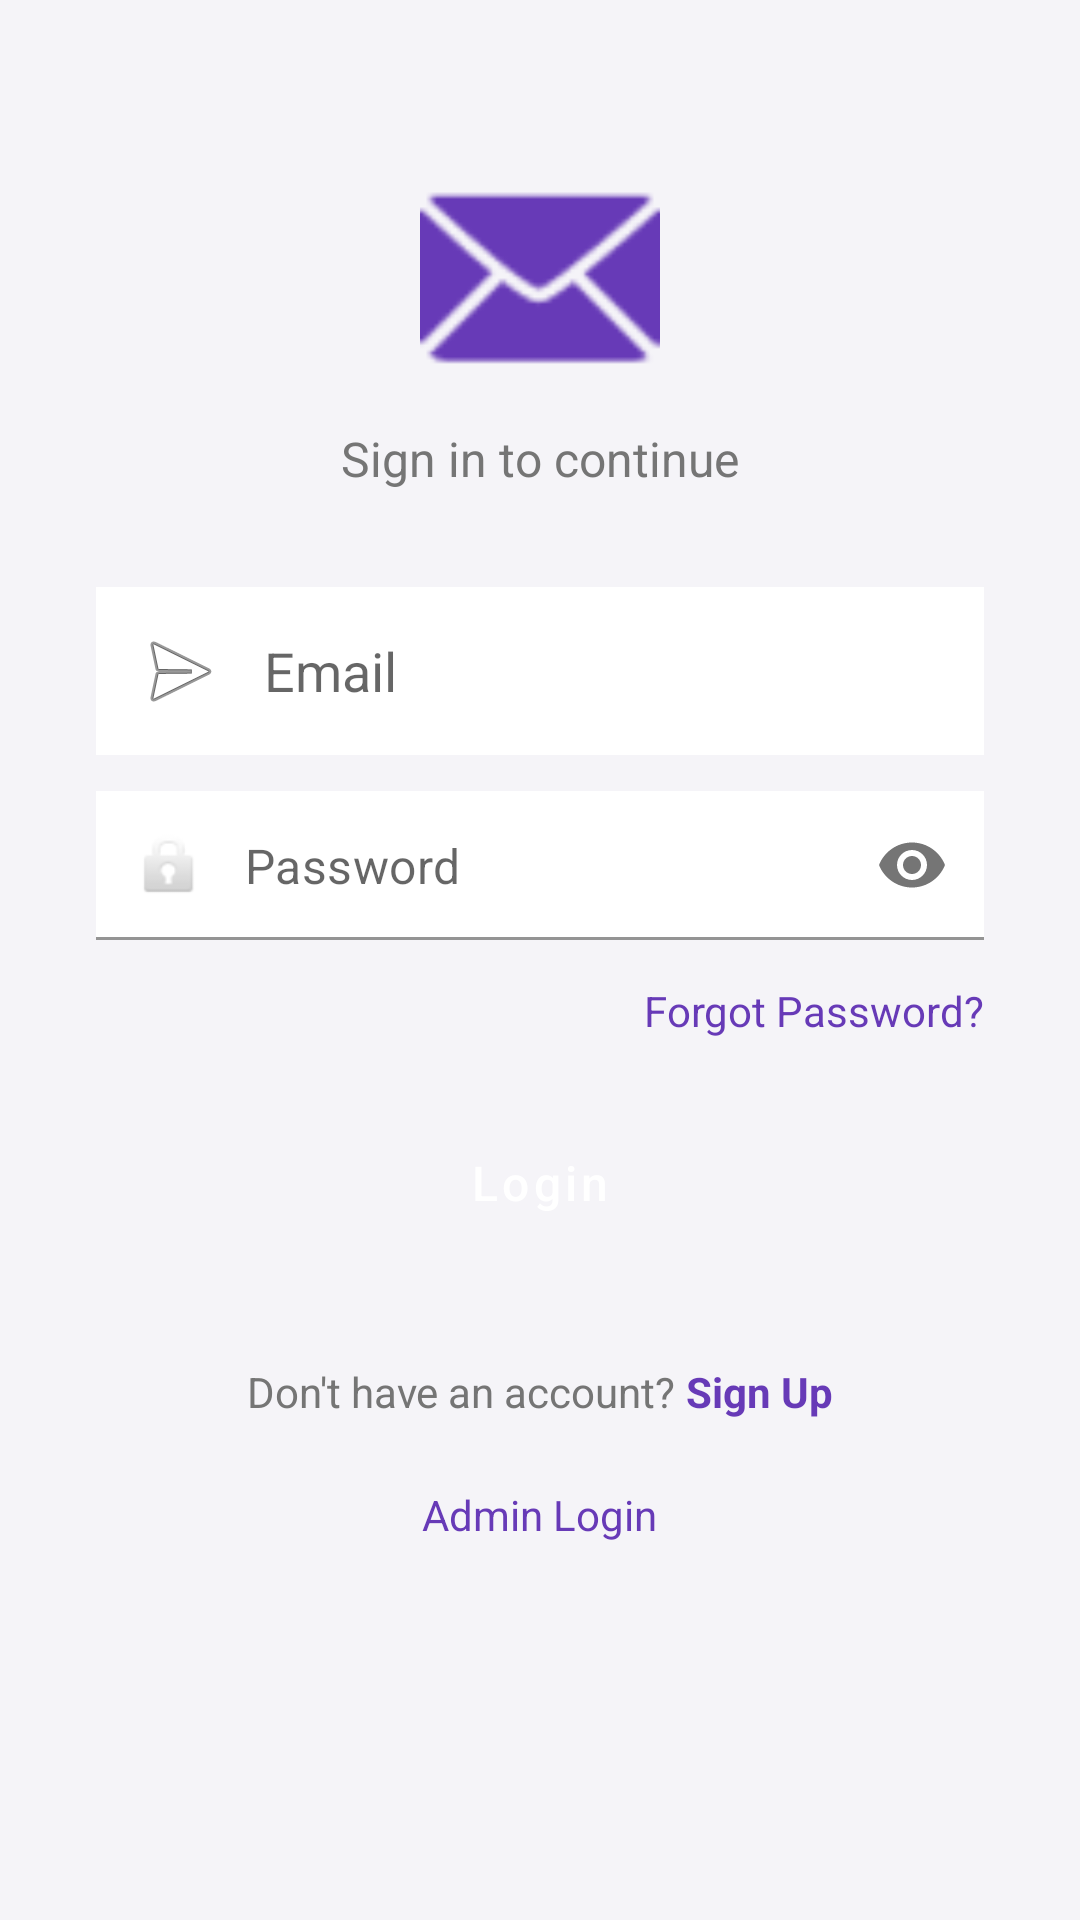

Icon bounding boxes for this 1080px x 1920px phone screenshot, format (x1, y1, x2, y2):
email: (420, 193, 660, 363)
